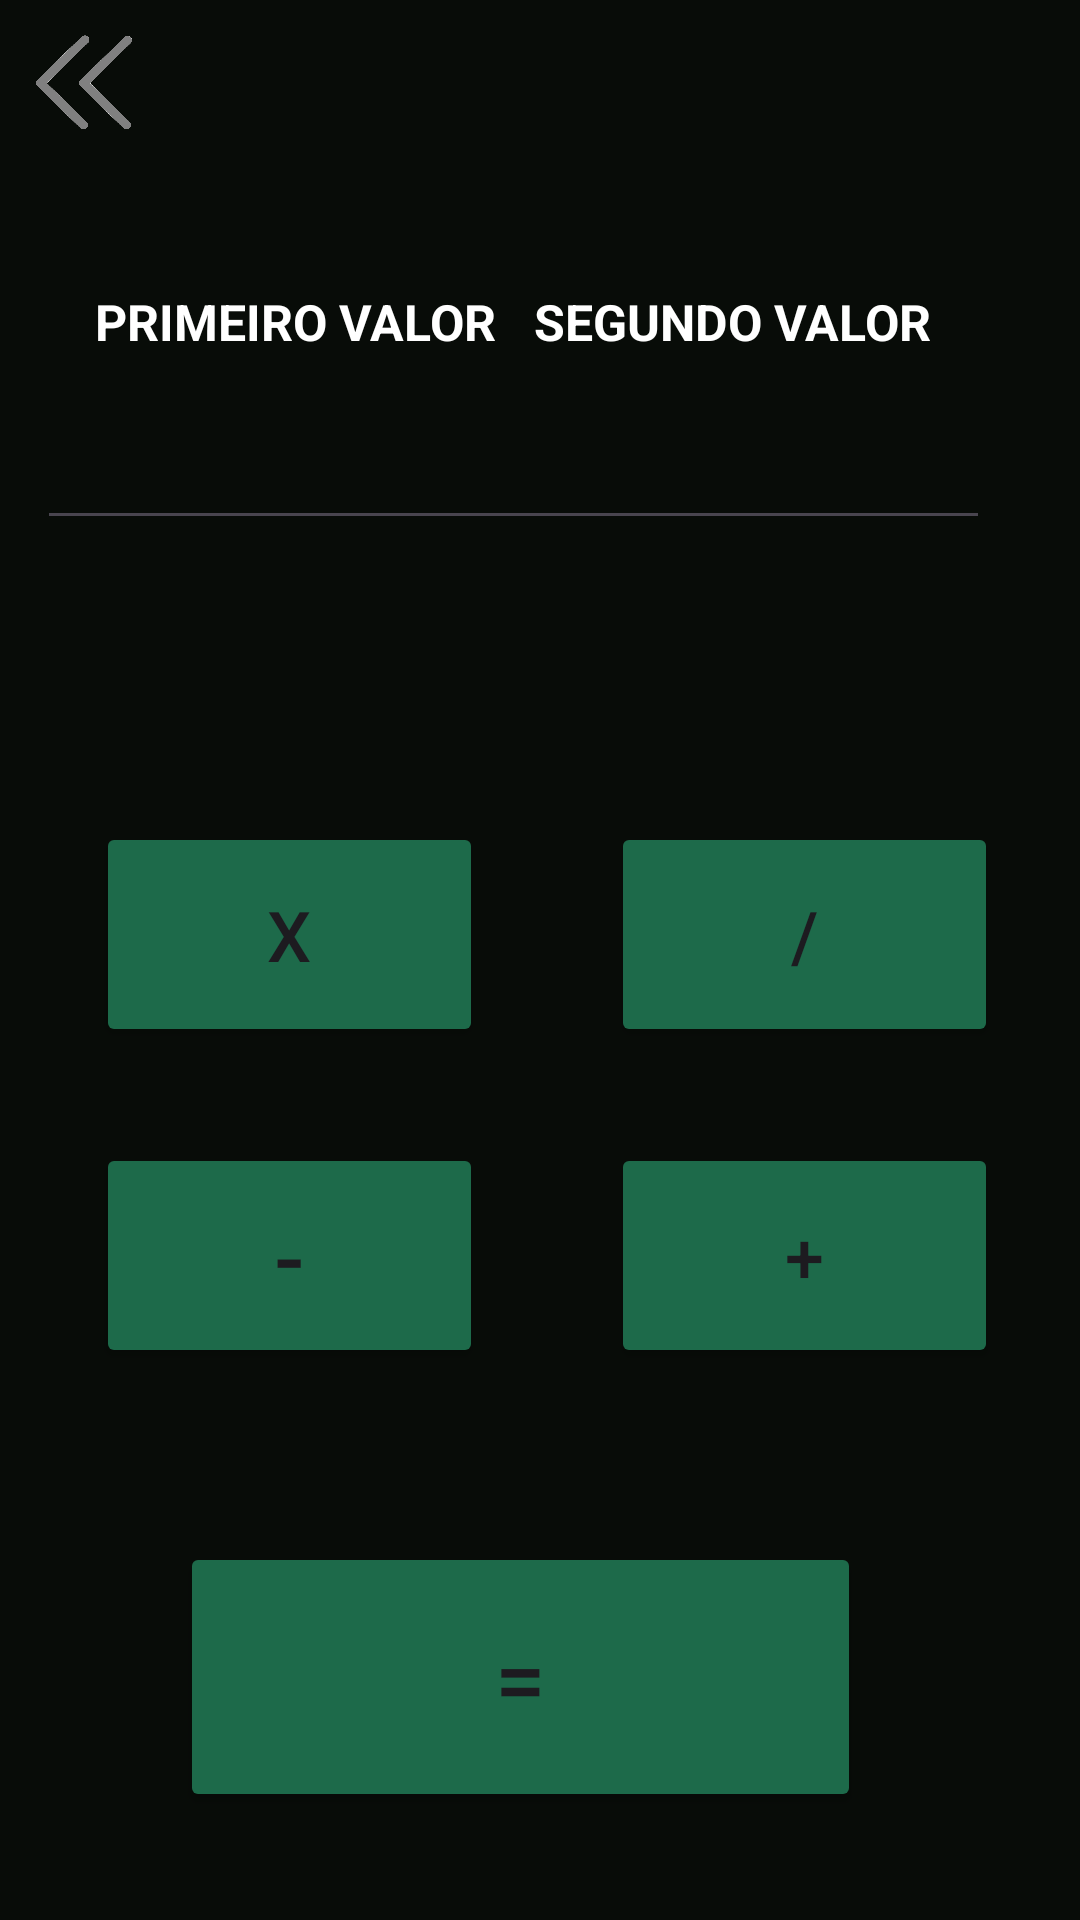

Screen size 1080 x 1920. Icon name, then its box in pixels as (x1,y1,x2,y2):
back: (36,35,132,129)
